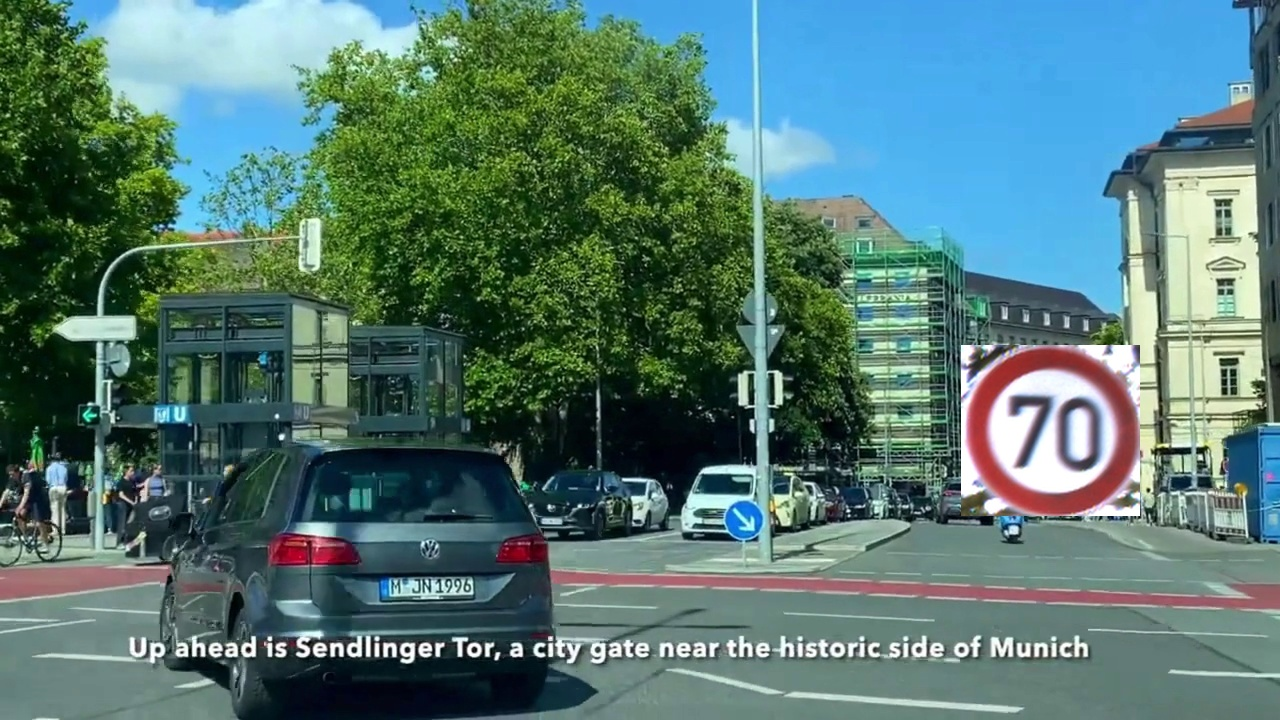Speed 70: (961, 345, 1140, 516)
